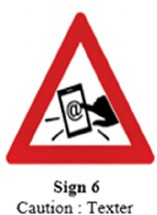Traffic signal: (6, 12, 156, 166)
